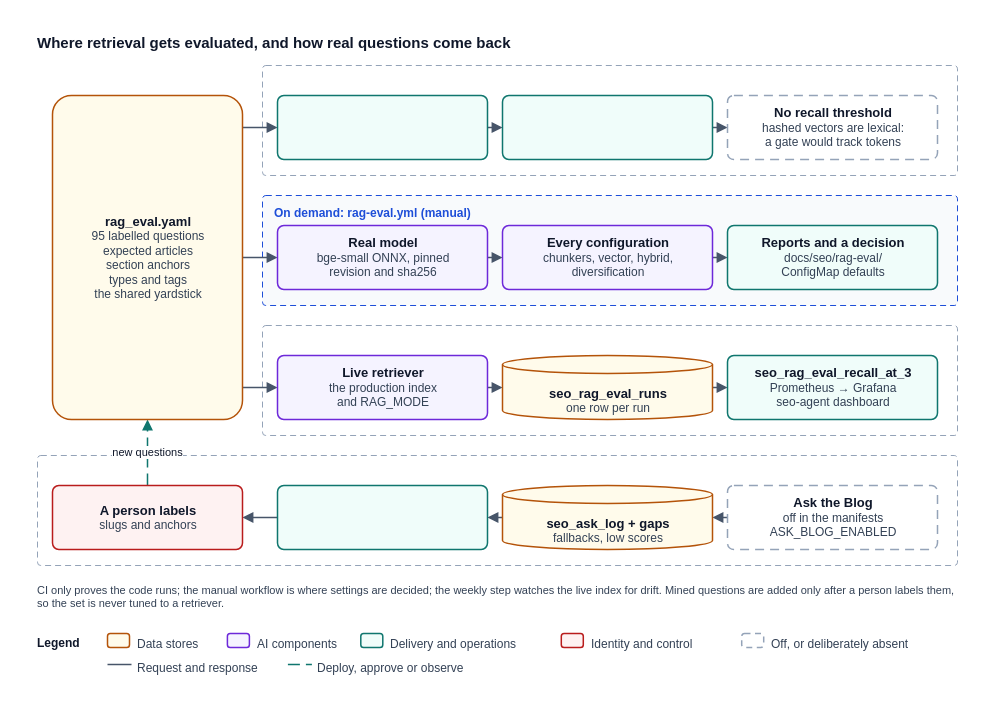
Some shapes in this 994 by 714 pixel diagram are drawn without their labels. The box of each missing label's shape, as (x1, y1, x2, y2) in pixels:
Every pull request: ci-seo-agent.yml: (262, 64, 958, 176)
Every Sunday 04:47 UTC: seo-flow-ml: (262, 324, 958, 436)
From real readers, once Ask the Blog is on: (36, 454, 958, 566)
pytest eval code, hashed vectors, in memory and Postgres: (276, 94, 488, 160)
rag_eval.py smoke --embeddings hash checks only that it runs: (501, 94, 713, 160)
rag_mine_eval.py read-only candidates: (276, 484, 488, 550)
